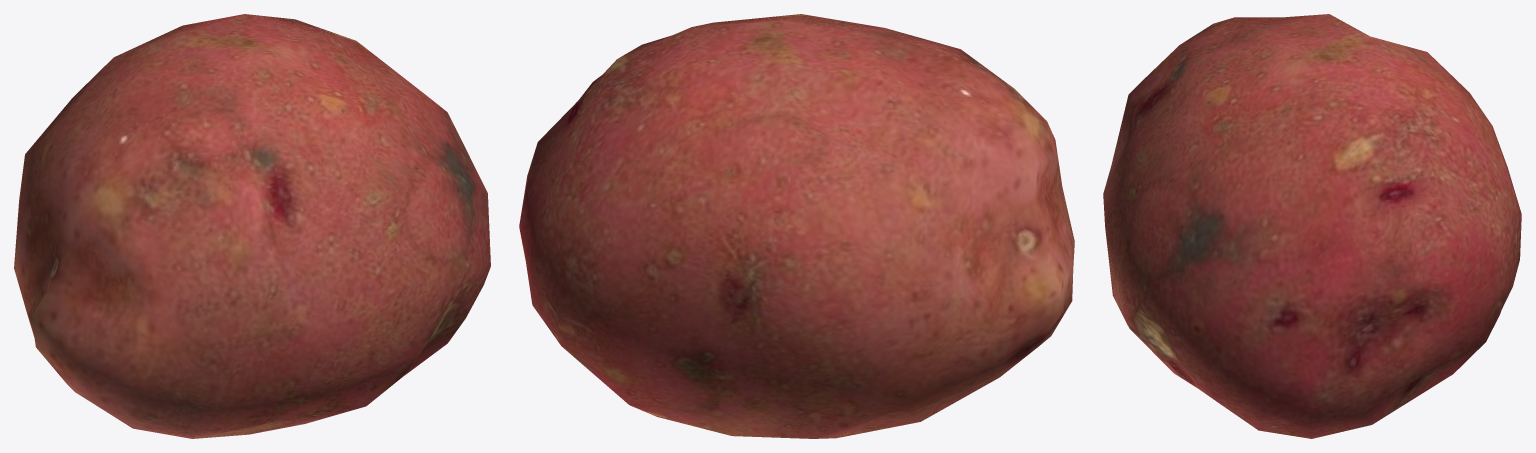
Rendered from A18_Potato_low.fbx.
3 renders of one model, left to right at view 1: azimuth 30°, elevation 25°; view 2: azimuth 150°, elevation 25°; view 3: azimuth 270°, elevation 25°, orthographic. The views are drawn at different scales.
Parts seen in each view (by area): view 1: A18_Potato_low; view 2: A18_Potato_low; view 3: A18_Potato_low.
Boxes of the visible parts, x1,y1,x2,y2 form: A18_Potato_low: [14, 14, 490, 438]; A18_Potato_low: [519, 14, 1074, 438]; A18_Potato_low: [1103, 14, 1521, 438].
Bounding box in the file's own units: 6.72 × 5.68 × 5.17.
Materials: 1 (1 with a texture image).
